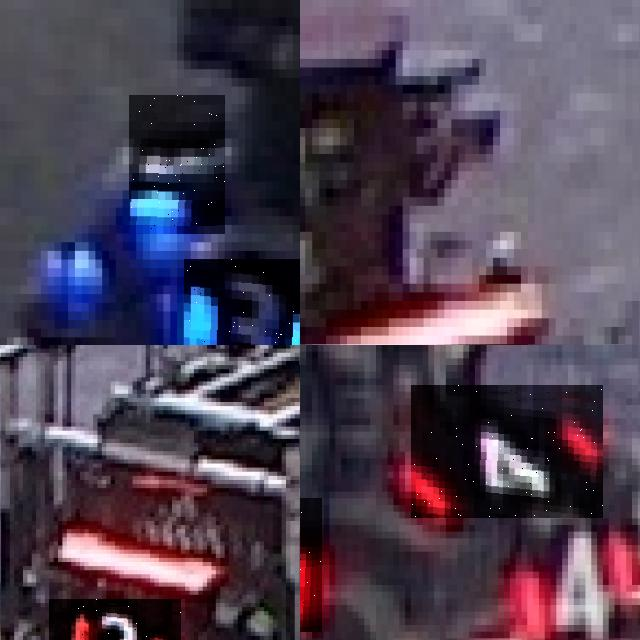B3: (129, 95, 225, 234), (184, 259, 300, 345)
R2: (49, 598, 180, 640)
R4: (411, 385, 603, 518), (521, 525, 640, 640)
